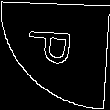P_E: (27, 35, 83, 75)
